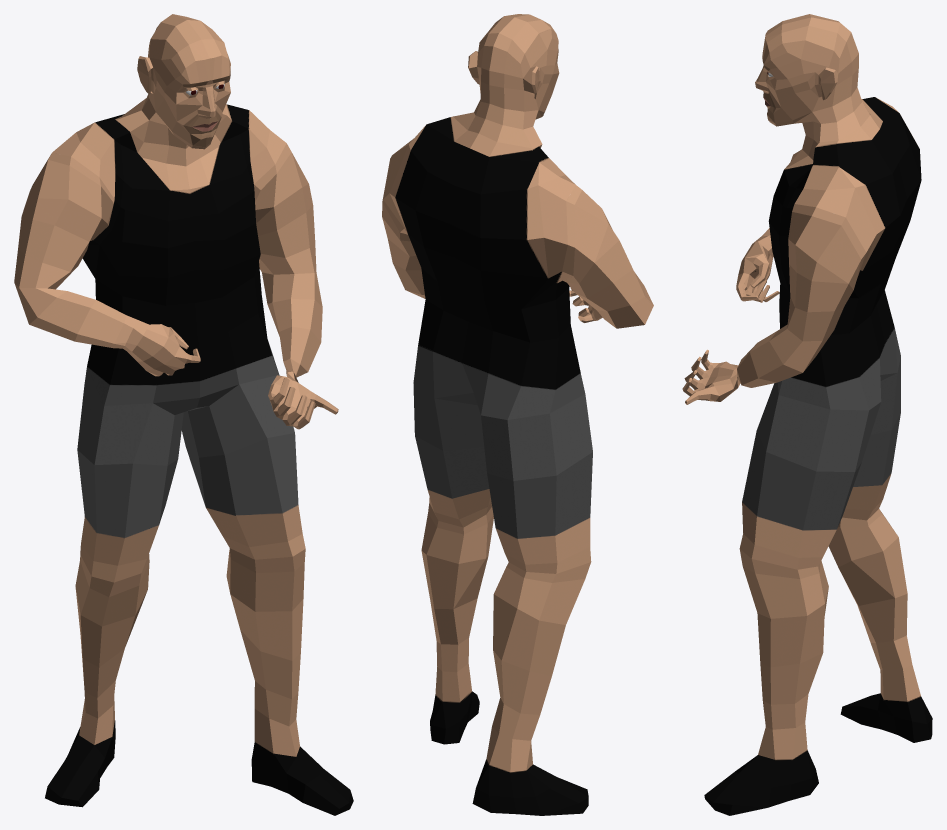
File: PlayerIdle(37).obj
3 views of the same model, side by side, from view 1: azimuth 30°, elevation 25°; view 2: azimuth 150°, elevation 25°; view 3: azimuth 270°, elevation 25° (orthographic). The views are drawn at different scales.
Visible parts, largest first — view 1: Plane002; view 2: Plane002; view 3: Plane002.
Boxes of the visible parts, x1=… form: Plane002: x1=14, y1=14, x2=353, y2=815; Plane002: x1=382, y1=14, x2=653, y2=815; Plane002: x1=682, y1=14, x2=932, y2=815.
Size of the model in its own units: 675 by 1807 by 552.
